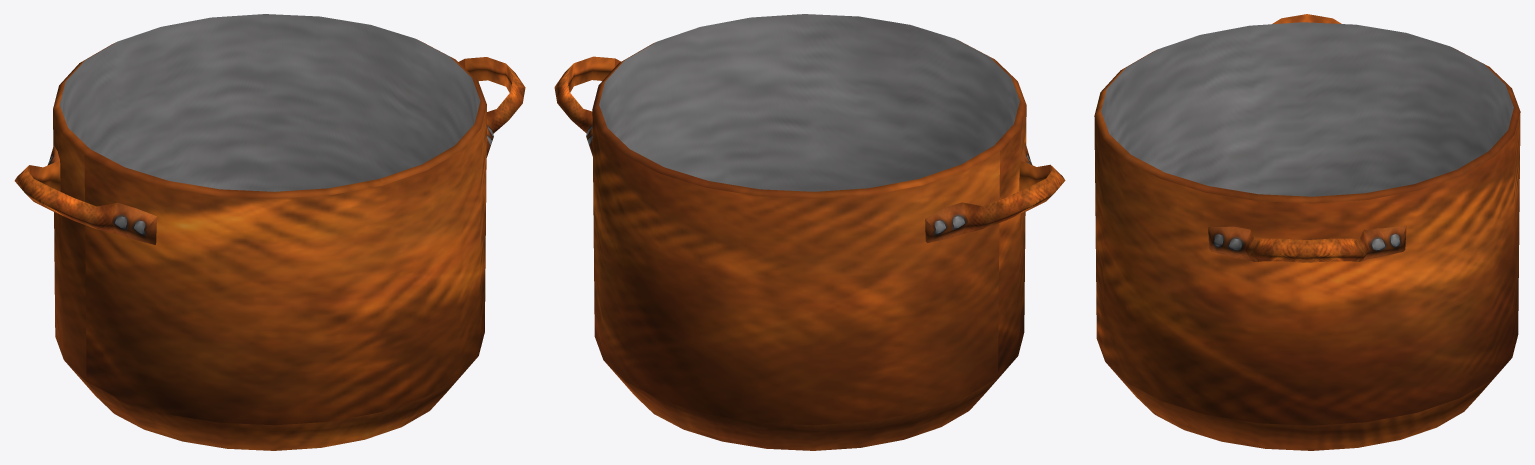
File: Pot.fbx
The picture shows the model from 3 angles, left to right: view 1: azimuth 30°, elevation 25°; view 2: azimuth 150°, elevation 25°; view 3: azimuth 270°, elevation 25°; orthographic projection.
Parts seen in each view (by area): view 1: Pot_LOD0; view 2: Pot_LOD0; view 3: Pot_LOD0.
Boxes of the visible parts, x1,y1,x2,y2 form: Pot_LOD0: (14,14,525,450); Pot_LOD0: (554,14,1065,450); Pot_LOD0: (1094,14,1520,450).
Size of what is drawn, in the model's own units: 108 by 56.82 by 82.48.
